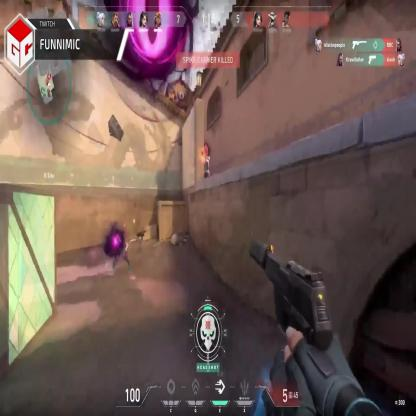enemy: (201, 149, 210, 184)
enemy_head: (203, 149, 207, 158)
